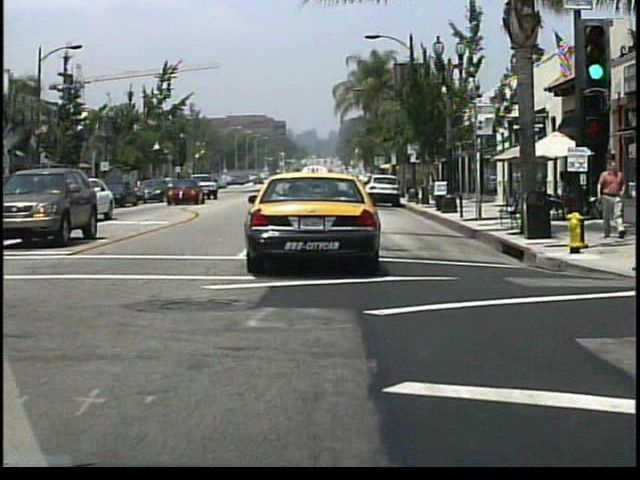person: (595, 160, 624, 239)
